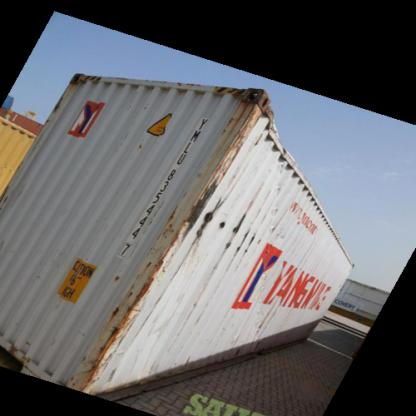Damage: (76, 264, 154, 389), (211, 76, 297, 167), (167, 192, 264, 258), (246, 301, 276, 350)
